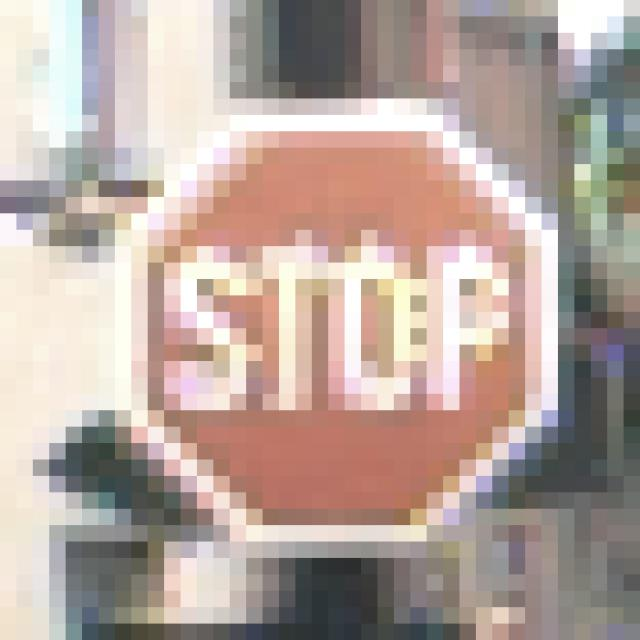STOP: (99, 99, 559, 559)
